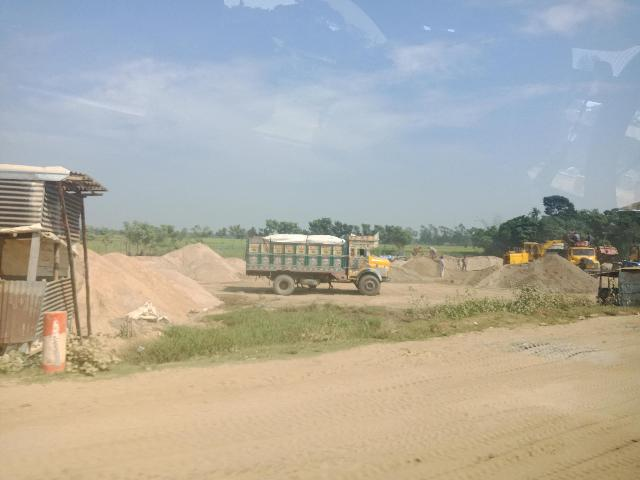truck: (235, 222, 391, 306), (557, 237, 610, 287)
